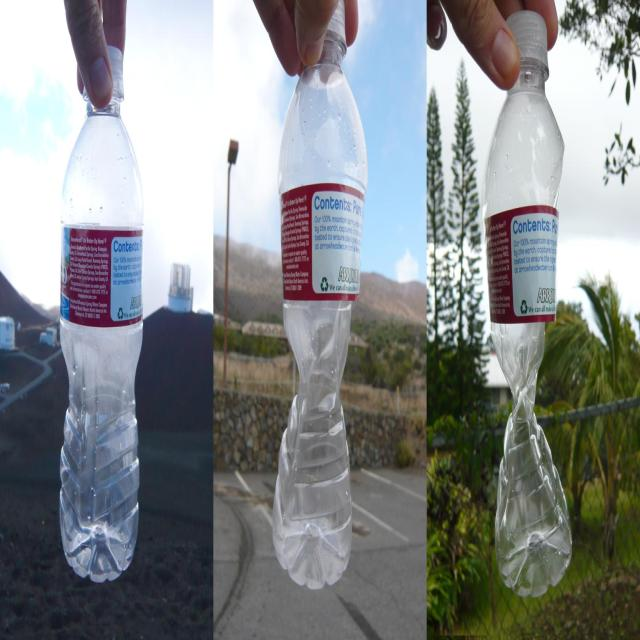plastic bottle: (272, 40, 371, 591), (484, 62, 573, 598), (59, 92, 143, 580)
plastic bottle cap: (503, 11, 548, 80), (82, 44, 125, 105), (323, 0, 347, 57)
